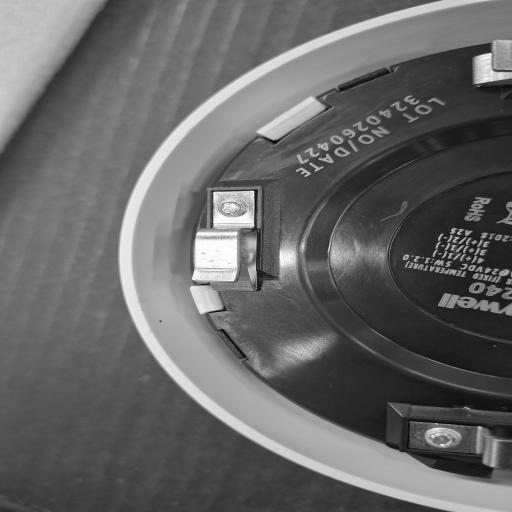yayli: (180, 179, 276, 307)
